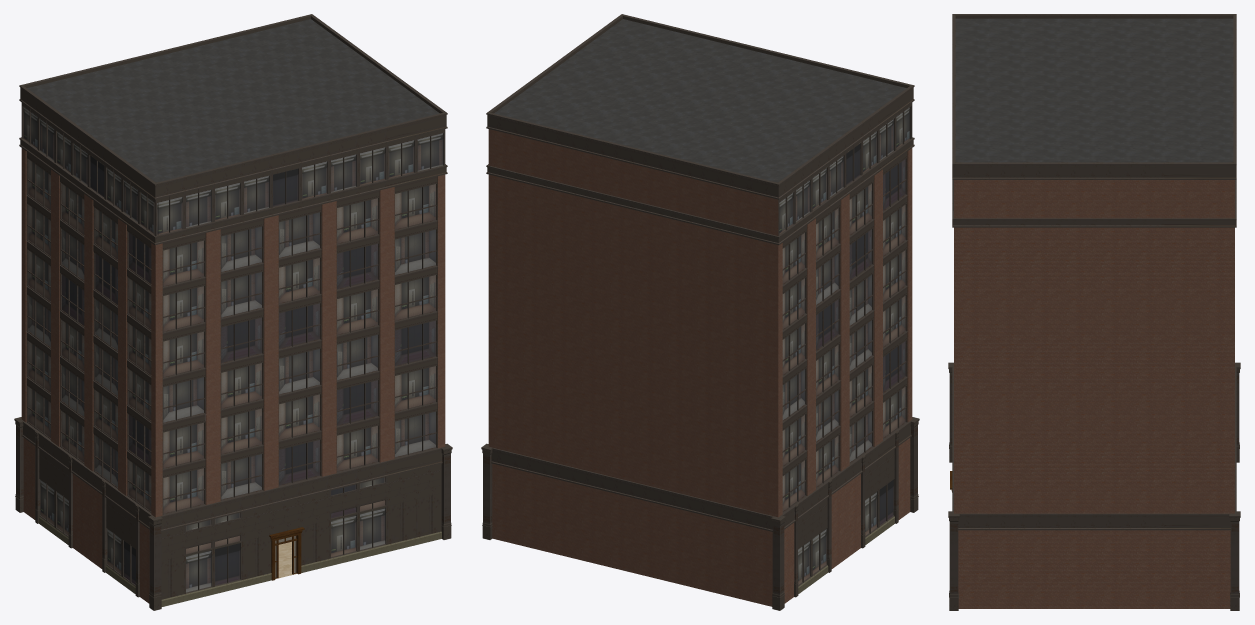
The model's file is highrise.glb.
3 views of the same model, side by side, from view 1: azimuth 30°, elevation 25°; view 2: azimuth 150°, elevation 25°; view 3: azimuth 270°, elevation 25° (orthographic). The views are drawn at different scales.
Parts seen in each view (by area): view 1: Building_Large_2; view 2: Building_Large_2; view 3: Building_Large_2.
Boxes of the visible parts, bbox=[...] form: Building_Large_2: bbox=[14, 14, 452, 610]; Building_Large_2: bbox=[481, 14, 919, 610]; Building_Large_2: bbox=[948, 14, 1240, 610].
Size of the model in its own units: 24.77 by 33.6 by 19.97.
Materials: 10 (9 with a texture image).
